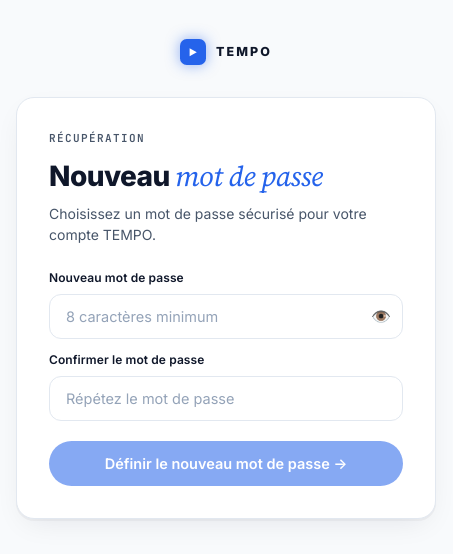
Scenario: ResetPassword › Indicateur de force du mot de passe › affiche "Trop court" pour < 8 chars
Type "abc" into the password field labelled "Nouveau mot de passe" at (226, 316), box 49,294 -> 403,339
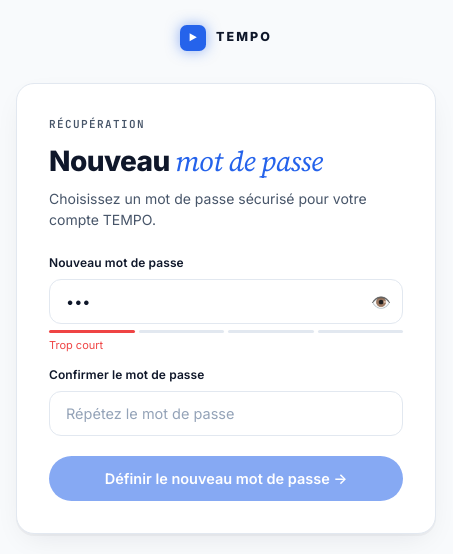
Expected: the text "Trop court" is shown, 49,338 -> 103,352
